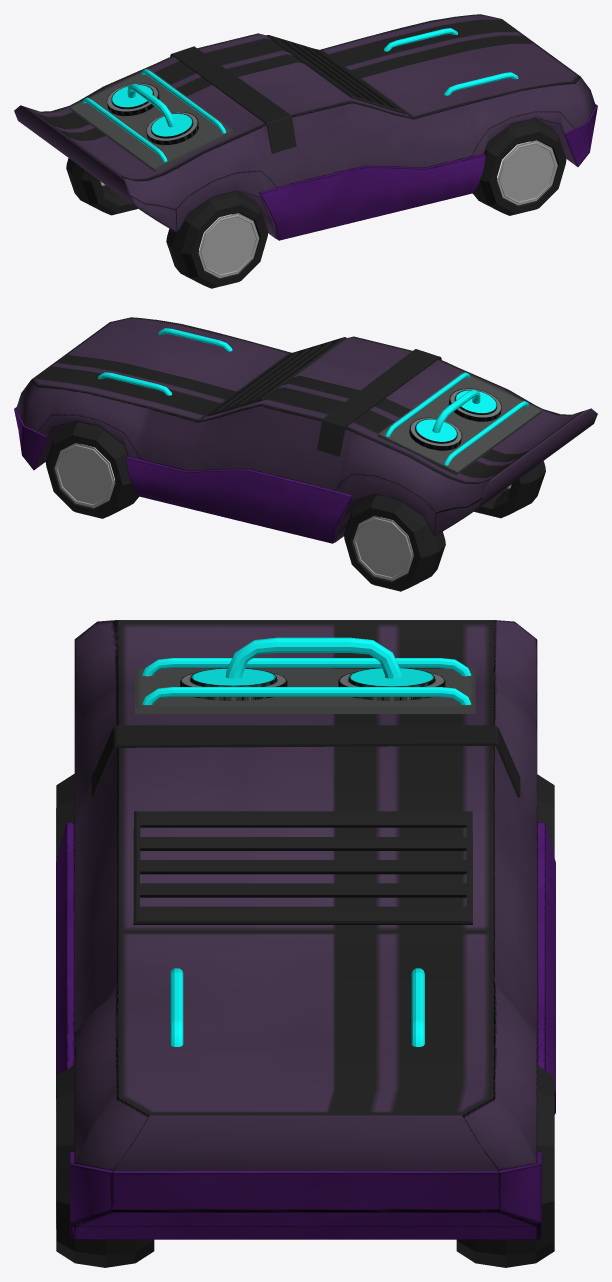
The model's file is CarroPrincipal 1.fbx.
3 views of the same model, one above another, from view 1: azimuth 30°, elevation 25°; view 2: azimuth 150°, elevation 25°; view 3: azimuth 270°, elevation 25° (orthographic). The views are drawn at different scales.
Visible parts, largest first — view 1: polySurface62, polySurface59, polySurface69, polySurface53, polySurface54, polySurface57, pCylinder53, pCylinder52, polySurface55, polySurface51, polySurface67, polySurface64 (+6 smaller); view 2: polySurface62, polySurface60, polySurface69, polySurface51, polySurface52, polySurface57, pCylinder51, pCylinder50, polySurface55, polySurface53, polySurface64, polySurface67 (+6 smaller); view 3: polySurface62, polySurface63, polySurface55, polySurface57, polySurface69, polySurface54, polySurface52, polySurface60, polySurface59, polySurface65, polySurface68, polySurface66 (+6 smaller).
Part boxes in pixels (bbox=[...]): polySurface62: bbox=[14, 14, 595, 239]; polySurface59: bbox=[259, 153, 485, 240]; polySurface69: bbox=[69, 69, 234, 172]; polySurface53: bbox=[166, 191, 268, 288]; polySurface54: bbox=[473, 118, 566, 215]; polySurface57: bbox=[170, 46, 296, 153]; pCylinder53: bbox=[198, 213, 259, 278]; pCylinder52: bbox=[497, 140, 557, 205]; polySurface55: bbox=[266, 35, 405, 114]; polySurface51: bbox=[66, 158, 137, 215]; polySurface67: bbox=[146, 112, 199, 145]; polySurface64: bbox=[106, 83, 159, 116]; polySurface62: bbox=[16, 317, 597, 542]; polySurface60: bbox=[126, 456, 352, 543]; polySurface69: bbox=[377, 371, 542, 475]; polySurface51: bbox=[344, 494, 445, 591]; polySurface52: bbox=[45, 421, 138, 518]; polySurface57: bbox=[317, 349, 441, 456]; pCylinder51: bbox=[54, 443, 115, 507]; pCylinder50: bbox=[353, 516, 413, 580]; polySurface55: bbox=[207, 337, 346, 416]; polySurface53: bbox=[474, 461, 545, 518]; polySurface64: bbox=[409, 417, 462, 450]; polySurface67: bbox=[449, 388, 501, 421]; polySurface62: bbox=[74, 620, 537, 1170]; polySurface63: bbox=[70, 1151, 541, 1239]; polySurface55: bbox=[133, 811, 472, 924]; polySurface57: bbox=[91, 725, 520, 798]; polySurface69: bbox=[135, 668, 475, 713]; polySurface54: bbox=[56, 1065, 154, 1267]; polySurface52: bbox=[456, 1065, 554, 1267]; polySurface60: bbox=[537, 822, 555, 1114]; polySurface59: bbox=[56, 822, 74, 1098]; polySurface65: bbox=[142, 687, 471, 705]; polySurface68: bbox=[225, 637, 401, 678]; polySurface66: bbox=[142, 658, 471, 676].
Size of the model in its own units: 2.77 by 0.8564 by 1.26.
